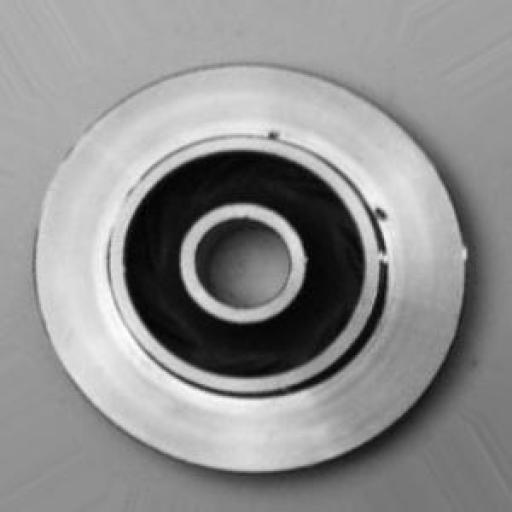defect: (248, 116, 418, 234)
